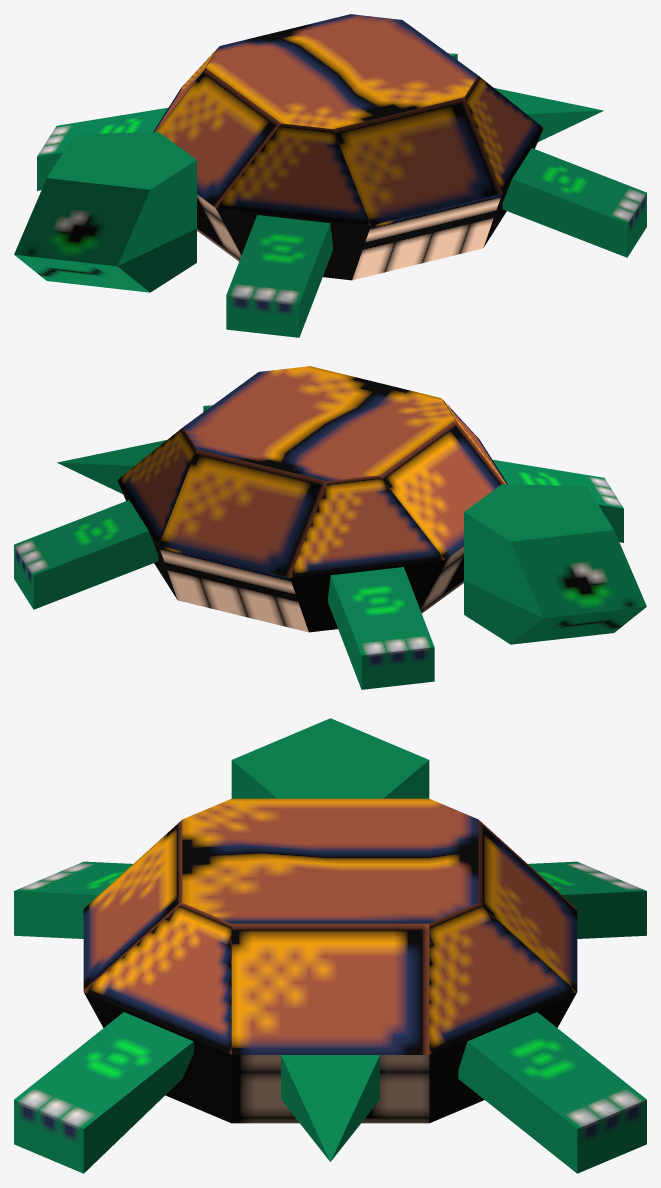
File: turtle pixel.obj
3 views of the same model, one above another, from view 1: azimuth 30°, elevation 25°; view 2: azimuth 150°, elevation 25°; view 3: azimuth 270°, elevation 25° (orthographic). The views are drawn at different scales.
Visible parts, largest first — view 1: turtle pixel; view 2: turtle pixel; view 3: turtle pixel.
Boxes of the visible parts, bbox=[...] form: turtle pixel: bbox=[14, 14, 646, 337]; turtle pixel: bbox=[14, 366, 646, 689]; turtle pixel: bbox=[14, 718, 646, 1173].
Size of the model in its own units: 4.5 by 1 by 3.21.
1 material, 1 textured.
